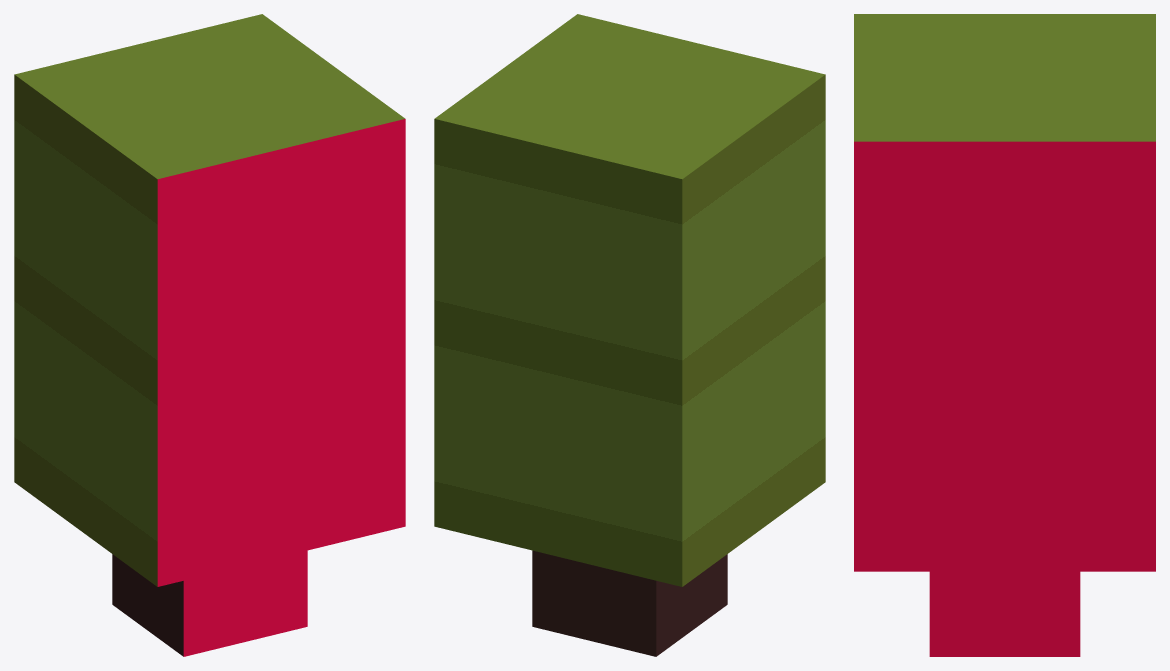
Rendered from tree3.gltf.
3 renders of one model, left to right at view 1: azimuth 30°, elevation 25°; view 2: azimuth 150°, elevation 25°; view 3: azimuth 270°, elevation 25°, orthographic. The views are drawn at different scales.
Visible parts, largest first — view 1: mesh; view 2: mesh; view 3: mesh.
Part boxes in pixels (left/top/right/bottom): mesh: left=14, top=14, right=405, bottom=656; mesh: left=434, top=14, right=825, bottom=656; mesh: left=854, top=14, right=1155, bottom=656.
Bounding box in the file's own units: 0.875 × 1.75 × 0.875.
Materials: 1 (1 with a texture image).
